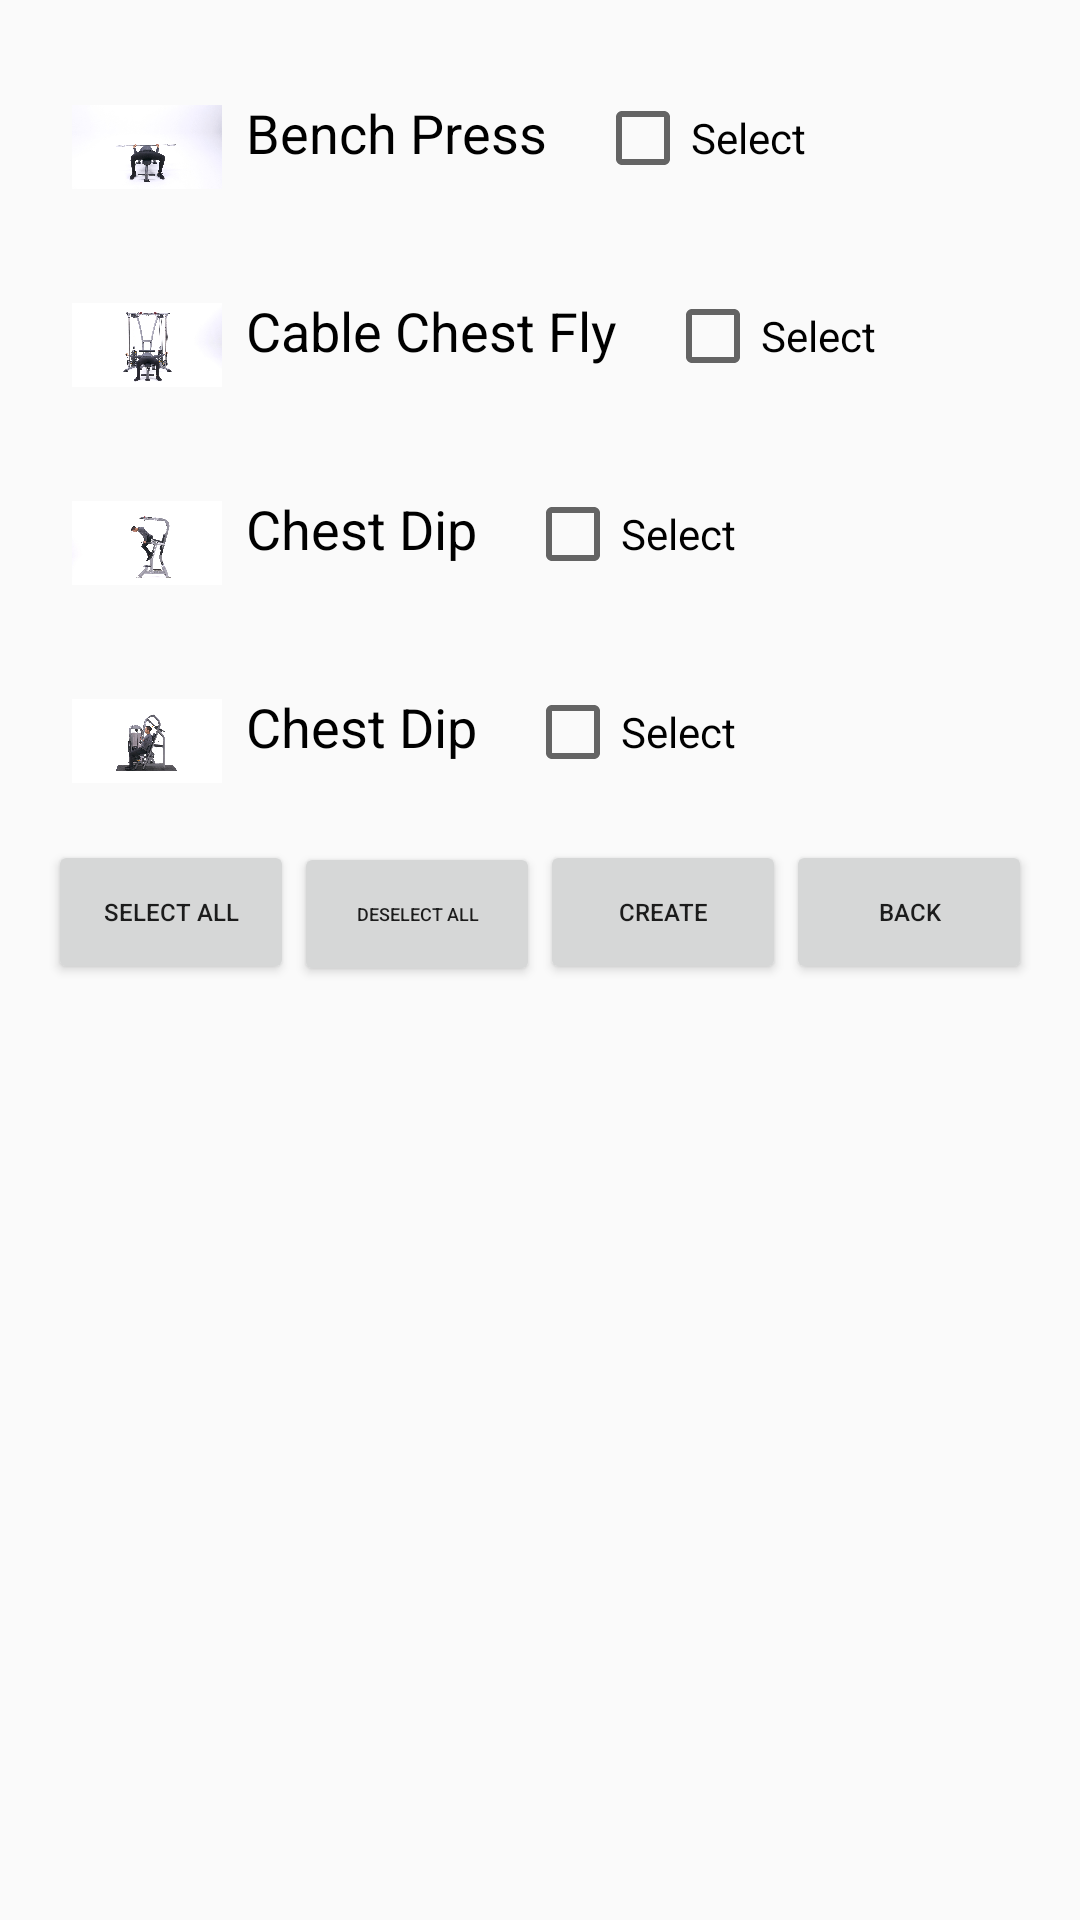

Named icons in this screenshot (1080px x 1920px) and their bounding boxes, rect(x1, y1, x2, y2):
machine chest press: rect(116, 715, 177, 771)
